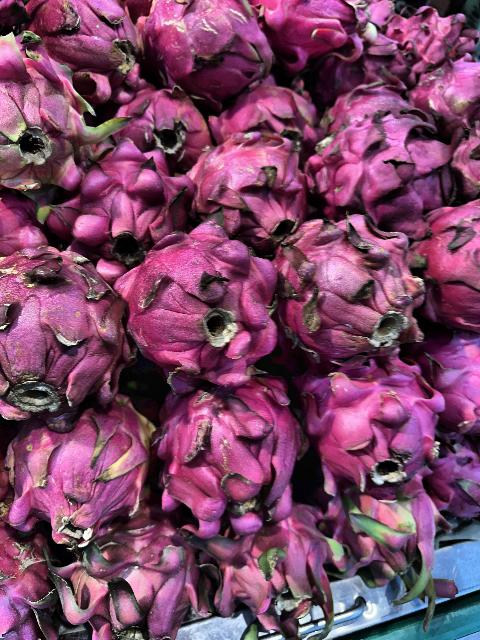buah-naga-belum-matang: (0, 22, 130, 192)
buah-naga-matang: (121, 225, 285, 385), (0, 236, 132, 414), (151, 382, 311, 524), (277, 226, 427, 366), (294, 356, 454, 486), (201, 514, 349, 640), (2, 411, 150, 535), (322, 475, 454, 613), (60, 524, 212, 638), (65, 143, 187, 264), (305, 110, 437, 216), (191, 136, 306, 250), (4, 0, 136, 92), (156, 0, 272, 90), (118, 80, 214, 166), (420, 202, 480, 322), (262, 0, 370, 62), (220, 83, 318, 151), (420, 328, 480, 434)
